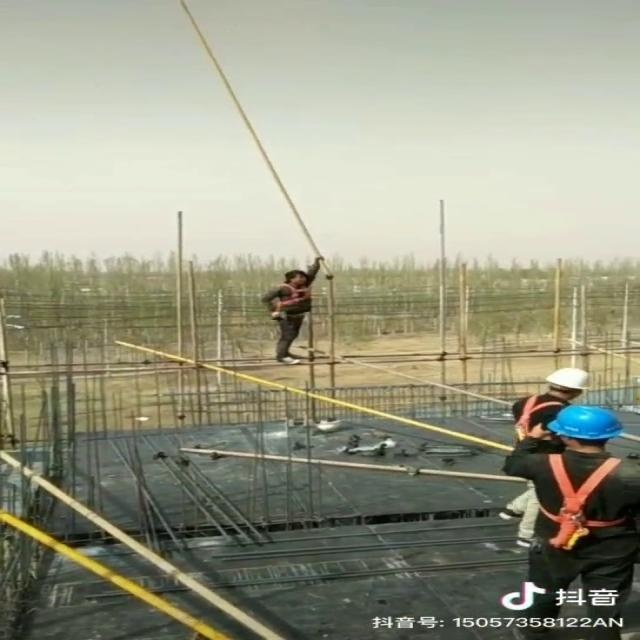Arnes_seguridad: (519, 448, 639, 549), (508, 393, 566, 431), (269, 282, 316, 319)
